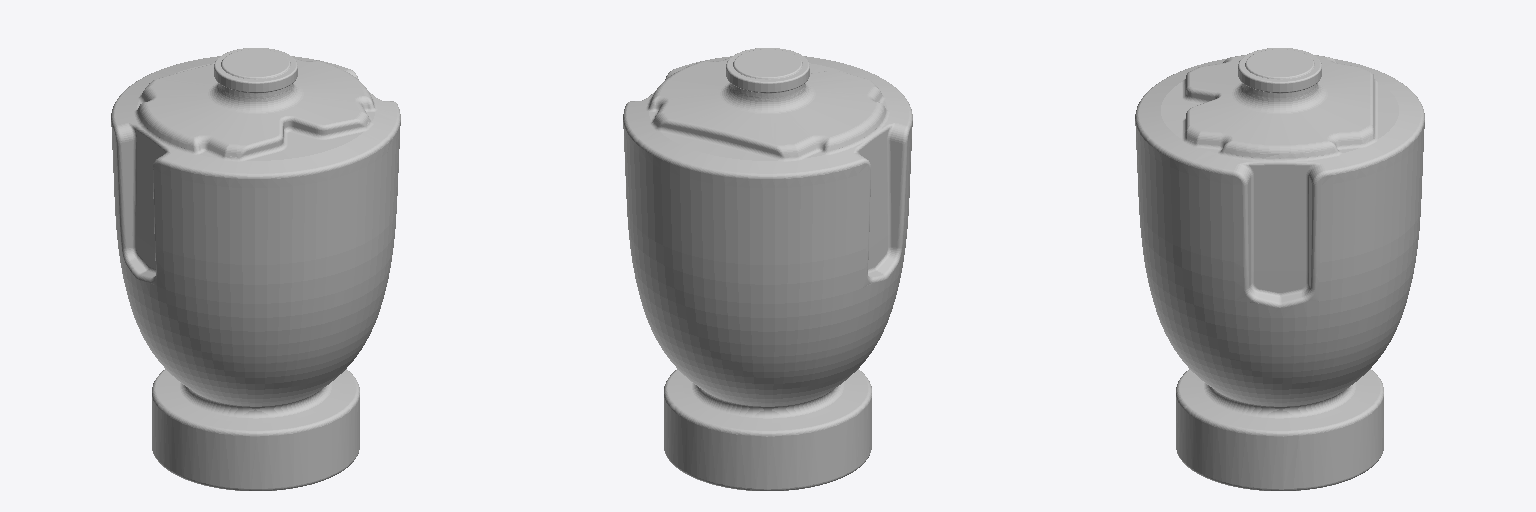
File: invictus.obj
3 renders of one model, left to right at view 1: azimuth 30°, elevation 25°; view 2: azimuth 150°, elevation 25°; view 3: azimuth 270°, elevation 25°, orthographic.
Bounding box in the file's own units: 61.46 × 93.61 × 63.71.